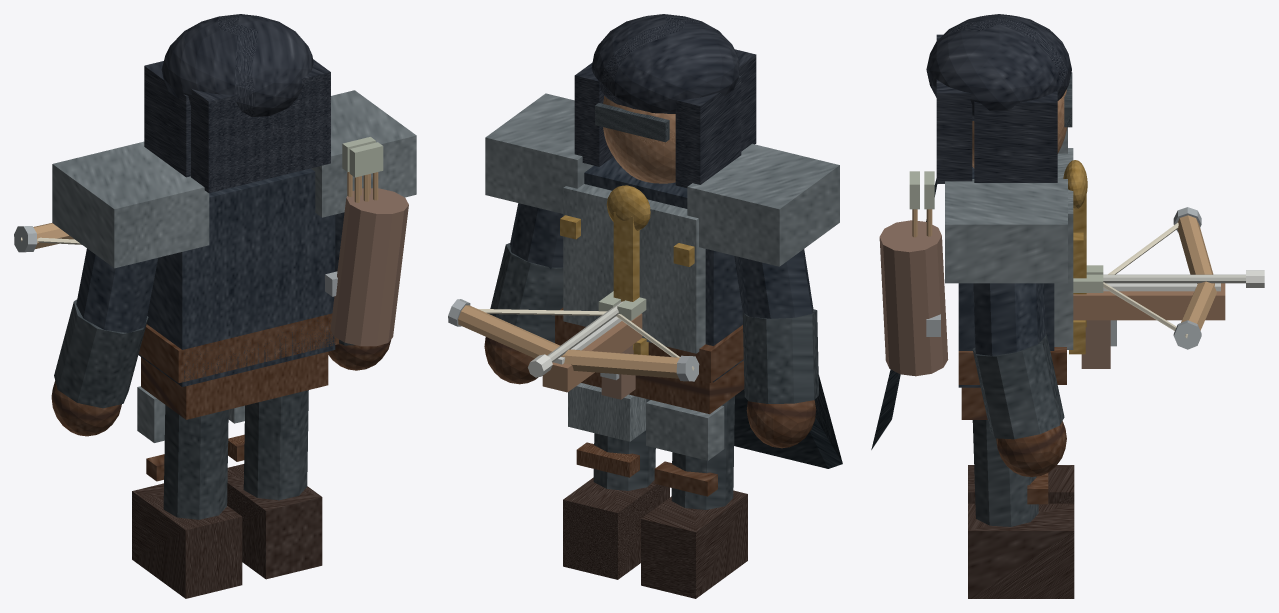
Rendered from Billjamin_Crossbow_Ranger.glb.
3 views of the same model, side by side, from view 1: azimuth 30°, elevation 25°; view 2: azimuth 150°, elevation 25°; view 3: azimuth 270°, elevation 25° (orthographic). The views are drawn at different scales.
Parts seen in each view (by area): view 1: tunic, left_pauldron, hood_back, hood_crown, quiver, left_boot, right_boot, right_pauldron, left_greave, belt, right_greave, hip_armor (+7 smaller); view 2: breastplate, left_pauldron, hood_crown, right_pauldron, left_boot, right_boot, left_bracer, hood_left, tunic, right_bracer, left_upper_arm, left_knee (+24 smaller); view 3: right_pauldron, hood_crown, right_boot, quiver, hood_right, right_bracer, right_upper_arm, right_greave, crossbow_stock, hood_back, right_glove, breastplate (+16 smaller).
Part boxes in pixels (x1=…): tunic: x1=138, y1=168, x2=335, y2=386; left_pauldron: x1=52, y1=141, x2=209, y2=268; hood_back: x1=191, y1=59, x2=330, y2=192; hood_crown: x1=161, y1=14, x2=313, y2=116; quiver: x1=330, y1=188, x2=408, y2=346; left_boot: x1=132, y1=483, x2=242, y2=598; right_boot: x1=227, y1=464, x2=322, y2=579; right_pauldron: x1=311, y1=90, x2=416, y2=217; left_greave: x1=163, y1=405, x2=228, y2=519; belt: x1=138, y1=313, x2=338, y2=383; right_greave: x1=243, y1=390, x2=308, y2=500; hip_armor: x1=141, y1=351, x2=328, y2=419; breastplate: x1=563, y1=184, x2=705, y2=353; left_pauldron: x1=687, y1=143, x2=839, y2=266; hood_crown: x1=591, y1=14, x2=739, y2=113; right_pauldron: x1=485, y1=93, x2=593, y2=213; left_boot: x1=641, y1=490, x2=747, y2=598; right_boot: x1=563, y1=477, x2=669, y2=579; left_bracer: x1=742, y1=309, x2=818, y2=403; hood_left: x1=675, y1=76, x2=741, y2=187; tunic: x1=584, y1=156, x2=743, y2=382; right_bracer: x1=489, y1=243, x2=563, y2=342; left_upper_arm: x1=734, y1=249, x2=813, y2=318; left_knee: x1=646, y1=400, x2=724, y2=460; right_pauldron: x1=945, y1=179, x2=1067, y2=283; hood_crown: x1=926, y1=14, x2=1071, y2=120; right_boot: x1=968, y1=503, x2=1074, y2=598; quiver: x1=879, y1=220, x2=948, y2=376; hood_right: x1=974, y1=90, x2=1057, y2=182; right_bracer: x1=972, y1=334, x2=1064, y2=439; right_upper_arm: x1=973, y1=283, x2=1045, y2=355; right_greave: x1=972, y1=420, x2=1038, y2=526; crossbow_stock: x1=1073, y1=283, x2=1225, y2=320; hood_back: x1=936, y1=34, x2=972, y2=183; right_glove: x1=996, y1=421, x2=1066, y2=477; breastplate: x1=1054, y1=148, x2=1073, y2=349.
Size of the model in its own units: 1.82 by 2.87 by 1.89.
Materials: 17 (9 with a texture image).
